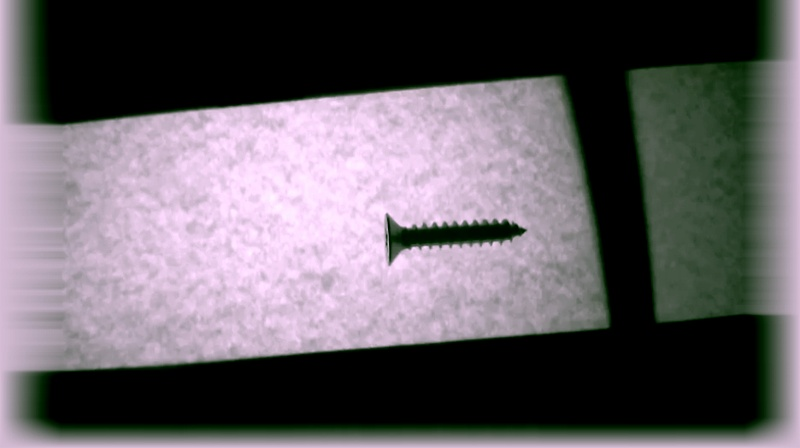S001: (380, 213, 530, 266)
